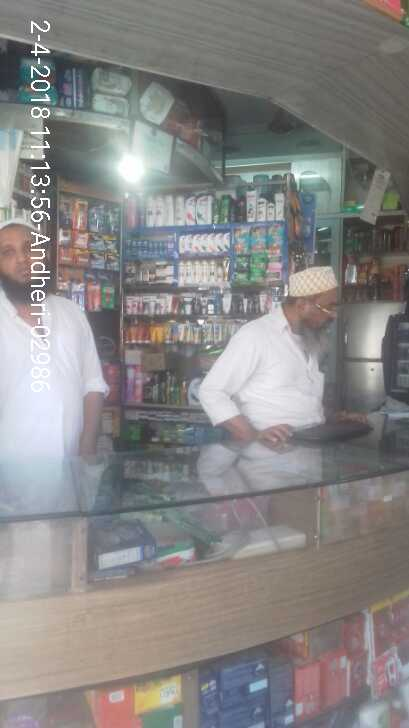vicks: (125, 235, 176, 257)
